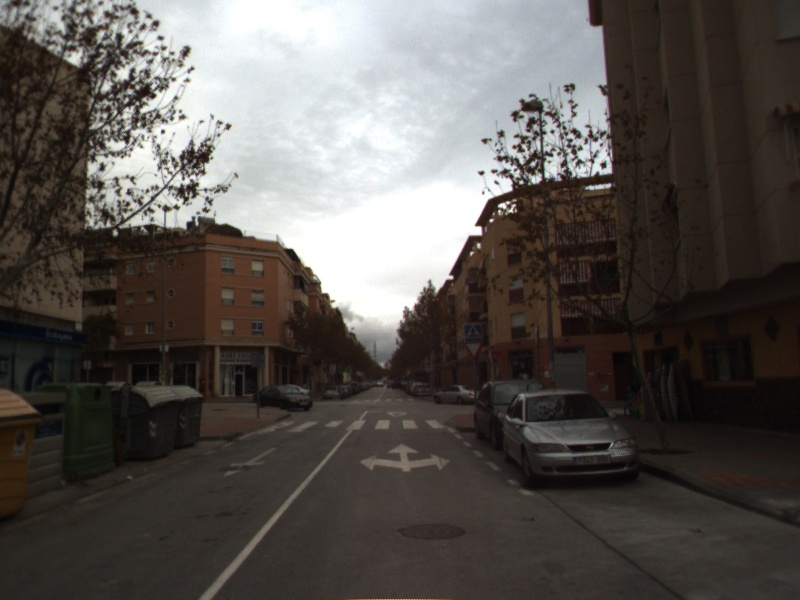STRAIGHT_LEFT_RIGHT: (358, 441, 453, 474)
